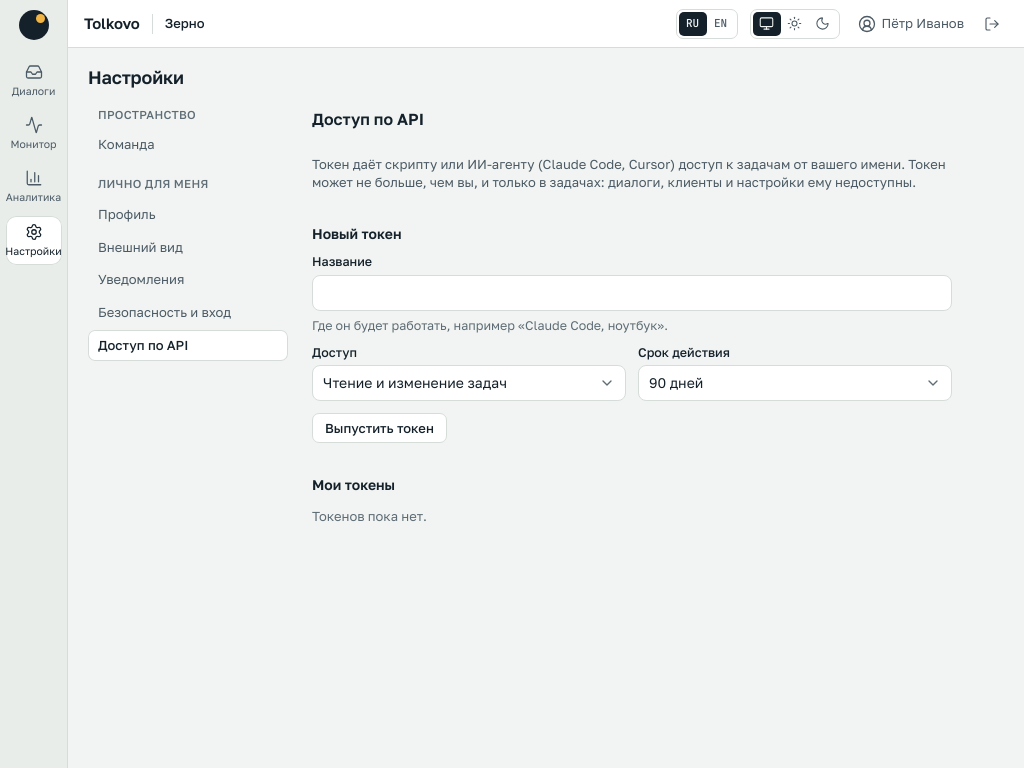
API access › explains the limit of tokens
In the field labelled "Название": (632, 293) left=312, top=275, right=952, bottom=311, type "Ещё один"
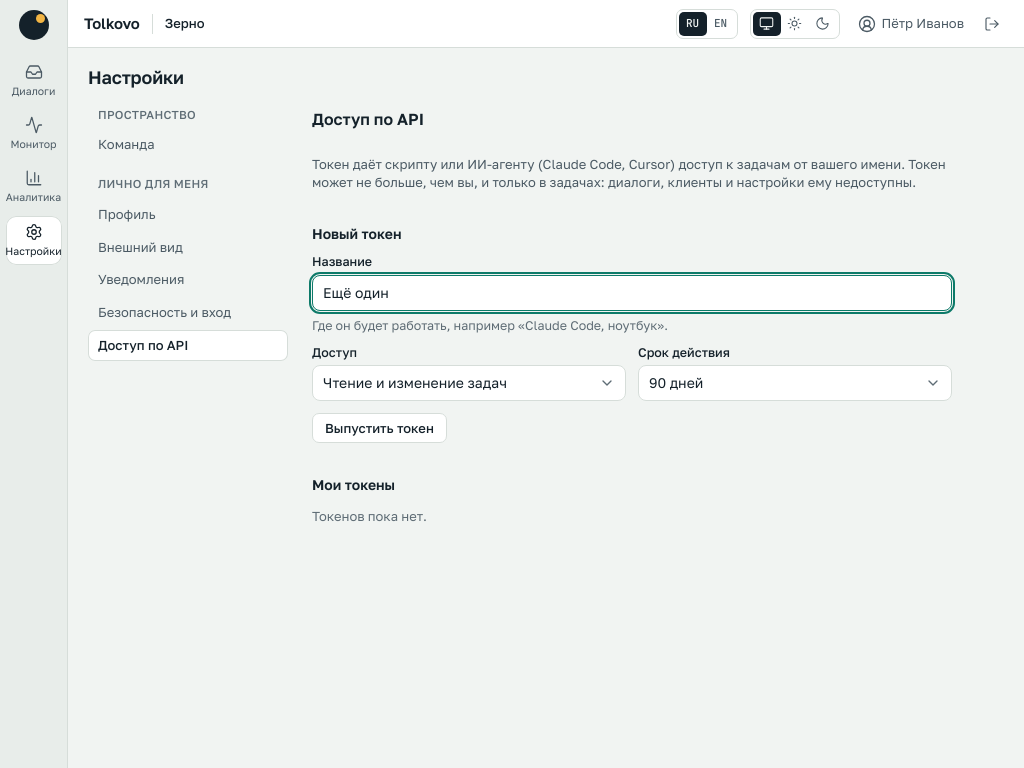
Click the button "Выпустить токен": (379, 428) left=312, top=413, right=447, bottom=443
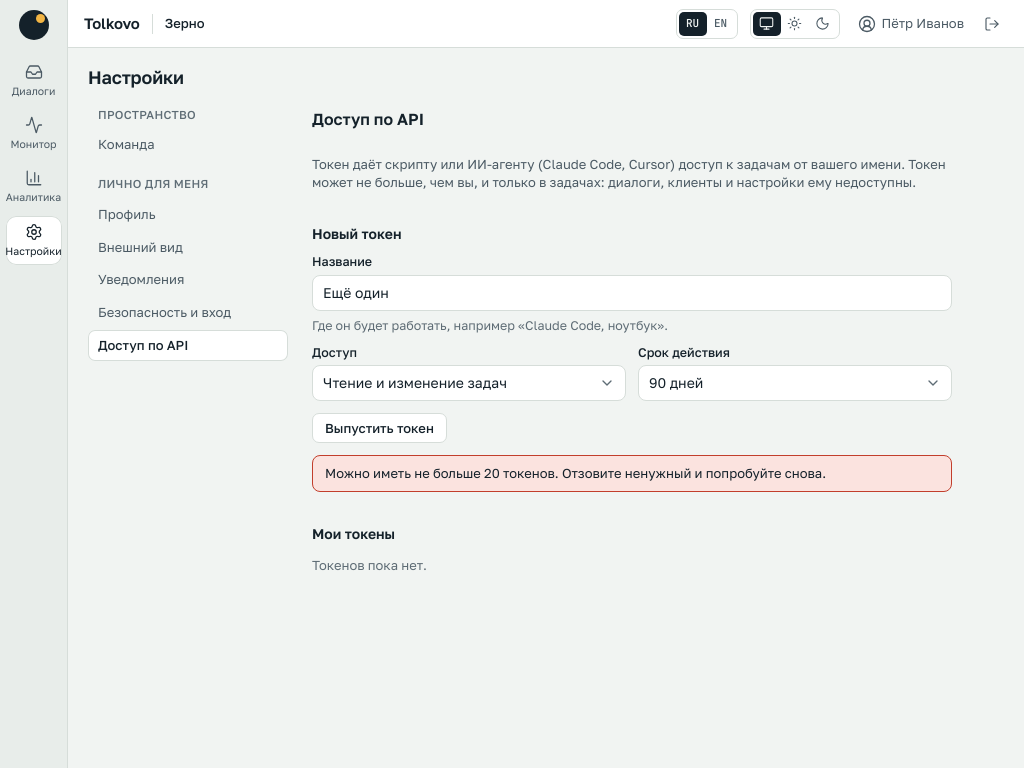
Expected: the text "Можно иметь не больше 20 токенов. Отзовите ненужный и попробуйте снова." is shown, left=312, top=455, right=952, bottom=492
